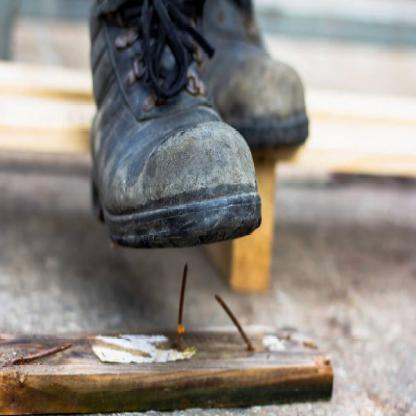bota: (83, 0, 268, 254), (197, 0, 314, 154)
